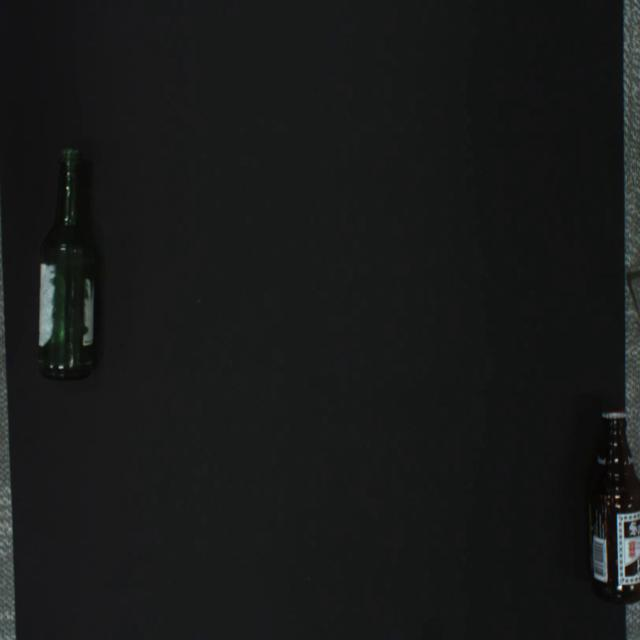beer-bottle: (587, 411, 640, 605)
soju-bottle: (39, 149, 97, 379)
